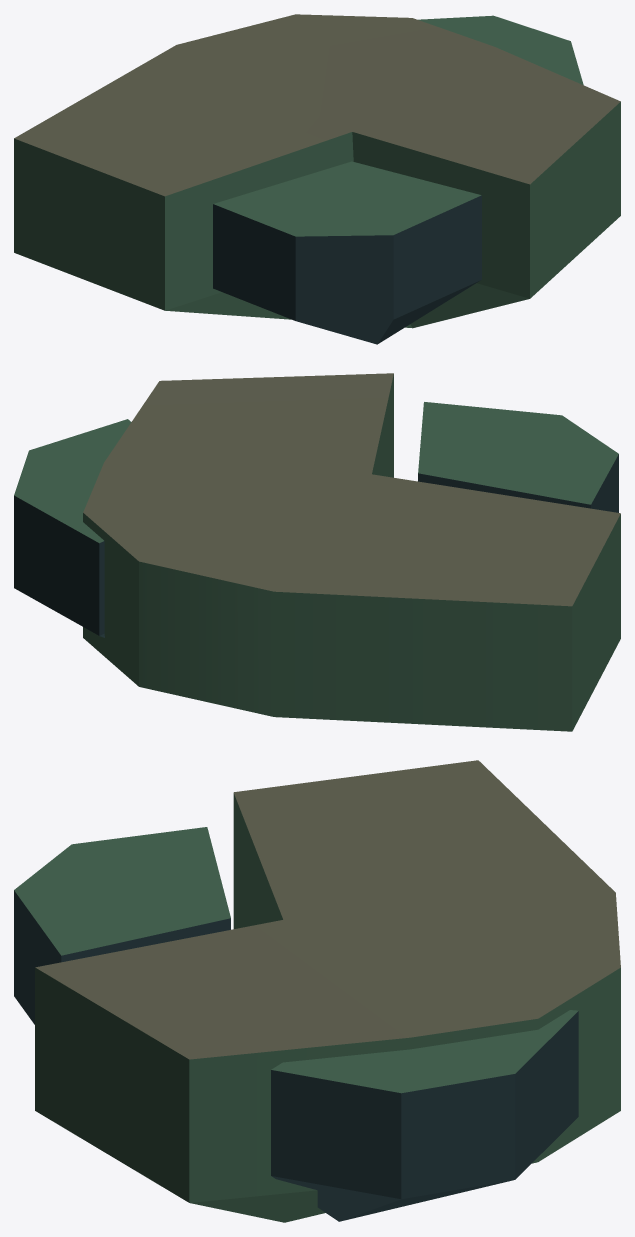
The model's file is дек5.fbx.
3 renders of one model, top to bottom at view 1: azimuth 30°, elevation 25°; view 2: azimuth 150°, elevation 25°; view 3: azimuth 270°, elevation 25°, orthographic. The views are drawn at different scales.
Visible parts, largest first — view 1: pCylinder40; view 2: pCylinder40; view 3: pCylinder40.
Part boxes in pixels (bbox=[...]): pCylinder40: bbox=[14, 14, 620, 344]; pCylinder40: bbox=[14, 373, 620, 731]; pCylinder40: bbox=[14, 760, 620, 1222].
Bounding box in the file's own units: 2.13 × 0.8245 × 1.7.
